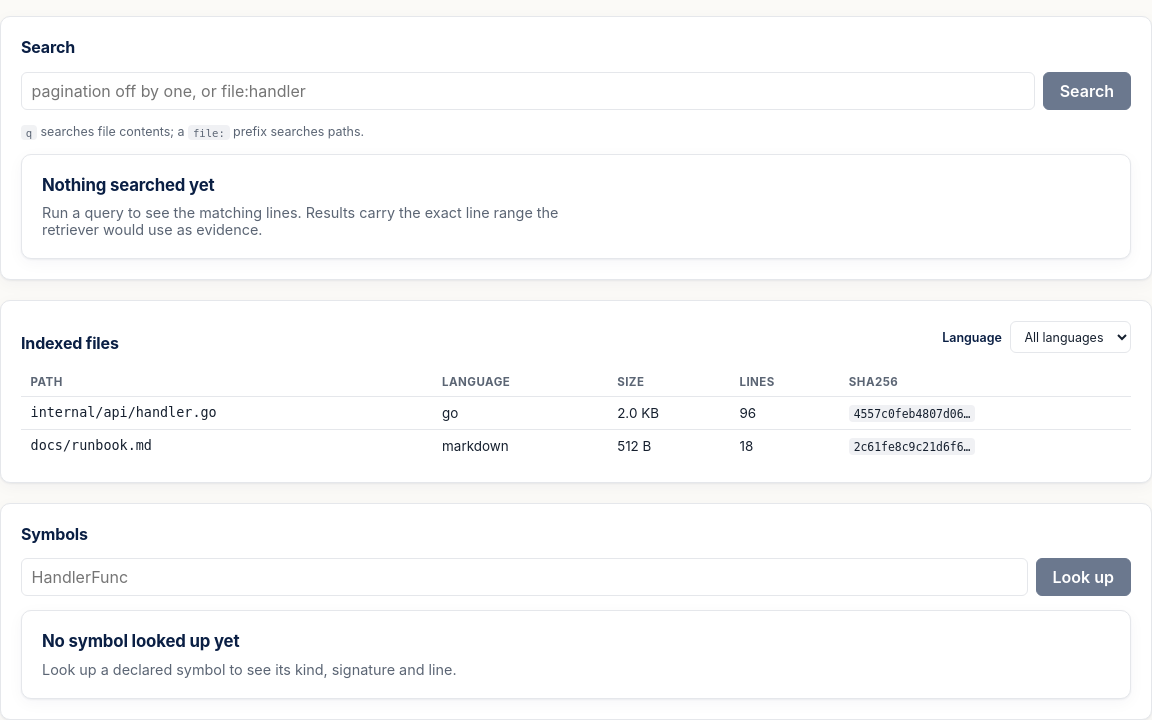
Test: WorkspaceSearchView › renders symbol lookup results with kind, line, signature and export state
(page scrolled)
Type "ListWorkspaces" into the search field with test id "symbol-input" at (524, 577), box [21,558,1028,596]
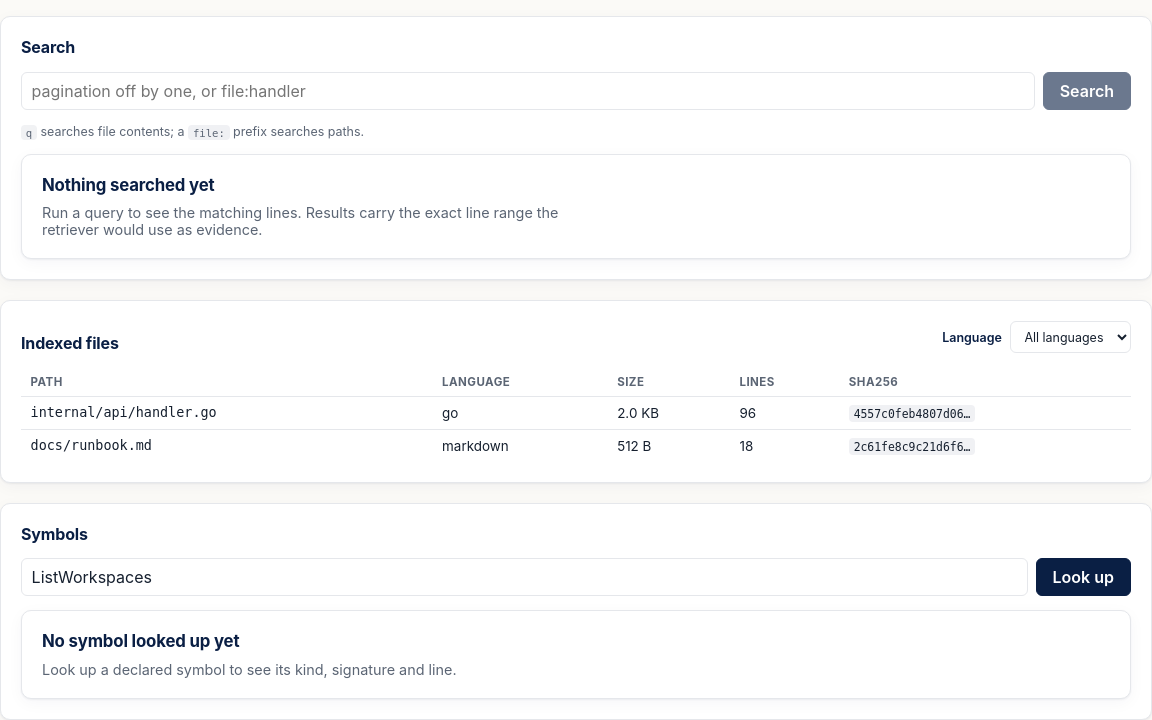
Submit the form "Look up", box [21,558,1131,596]
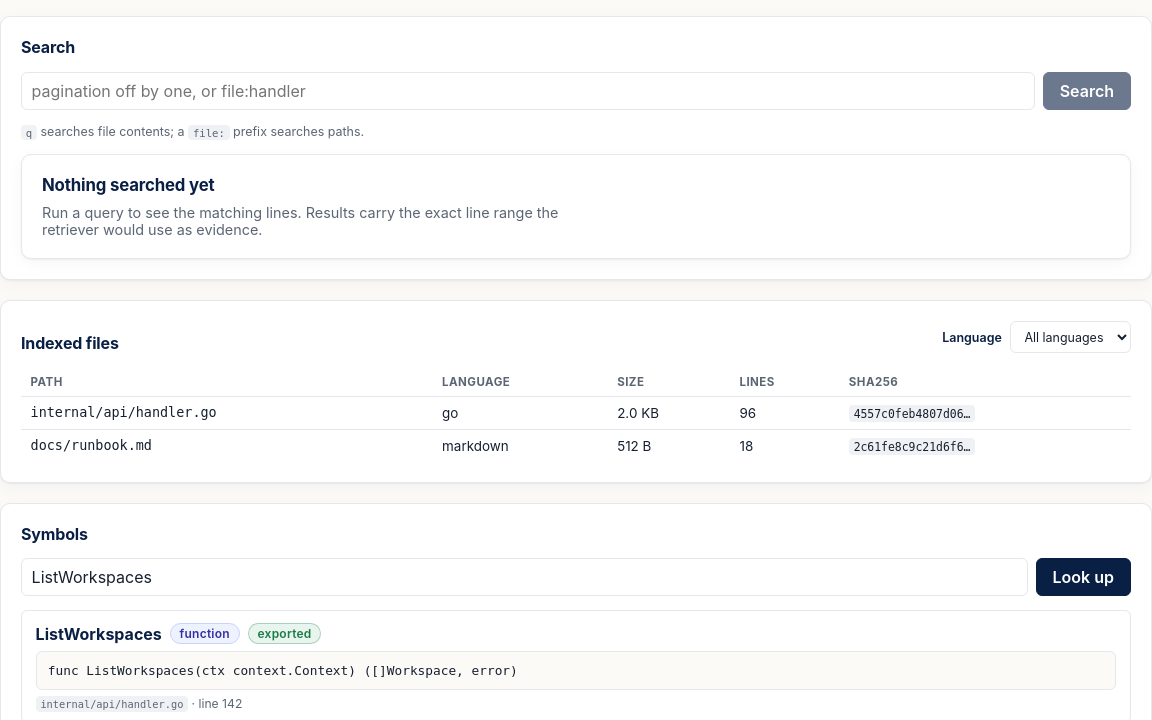
Now the text with test id "symbol-name" reads "ListWorkspaces", box [36,624,162,644]
Now the text with test id "symbol-kind" reads "function", box [180,626,230,641]
Now the text with test id "symbol-exported" reads "exported", box [258,626,312,641]
